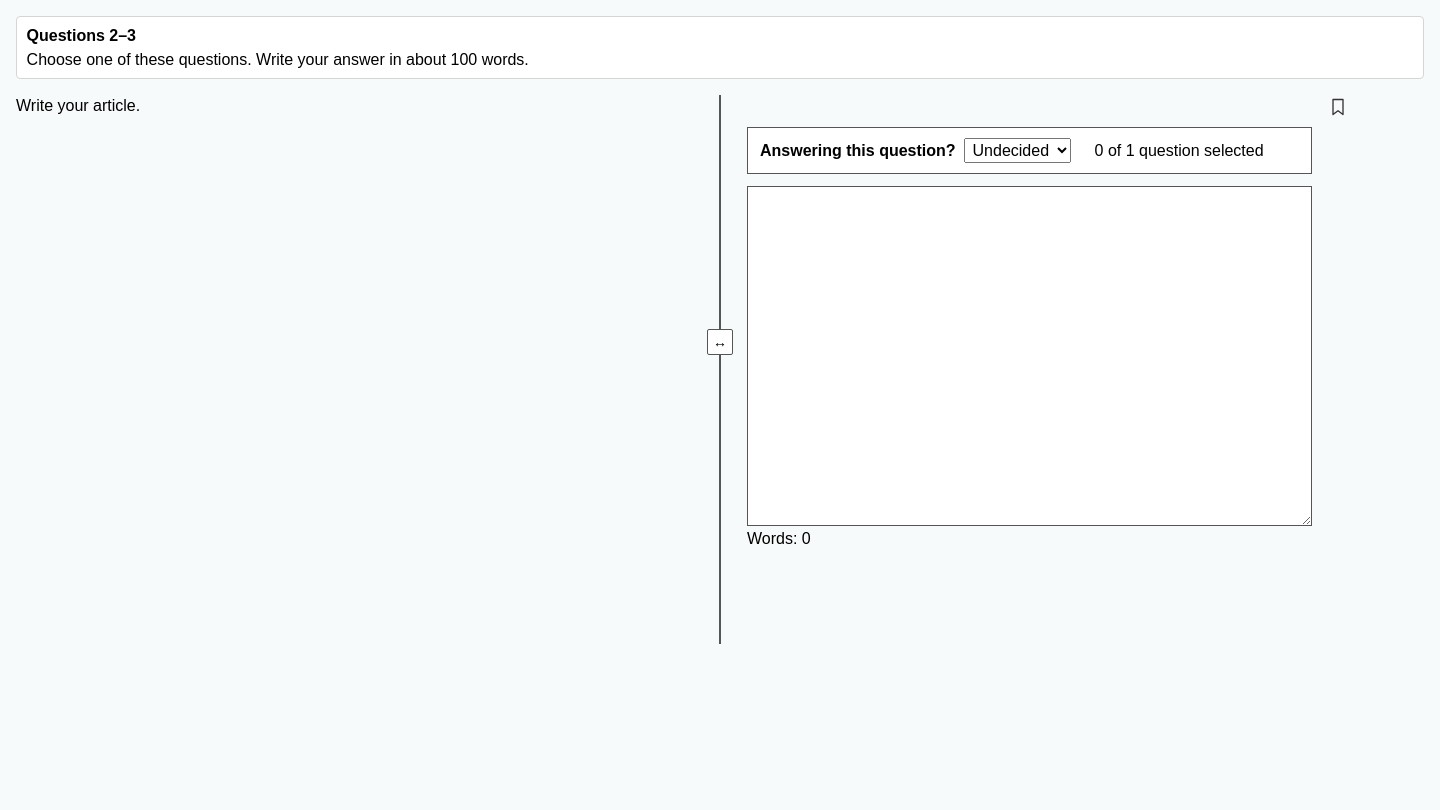
B1 Writing Part 2: choose one of the questions (VE-35) › counts the question once the candidate answers Yes
Select "Yes" in the dropdown named "Answering question 2?". click: (1017, 151)
box: [964,138,1071,163]
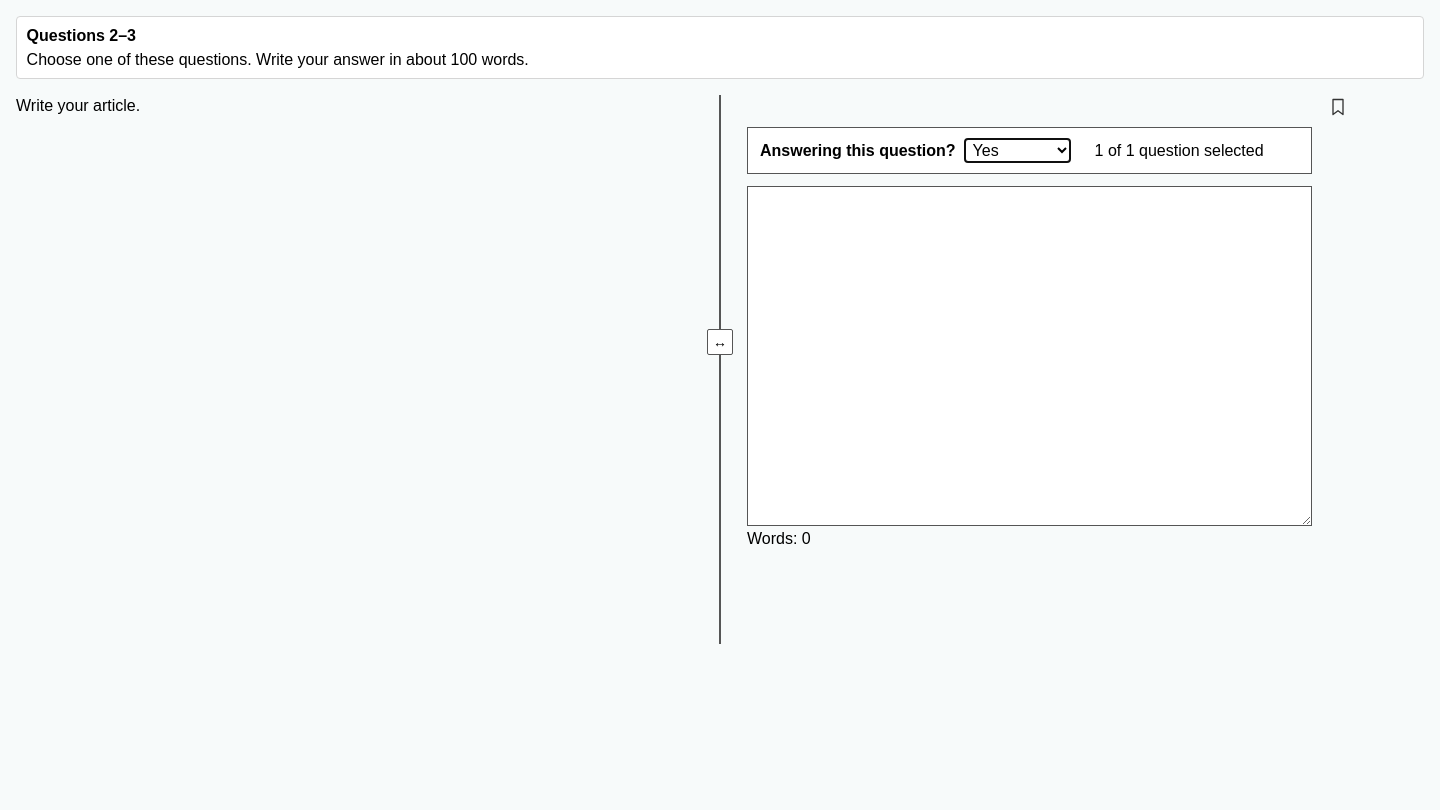
Result: the text "1 of 1 question selected" is shown at [1095,142,1264,160]
